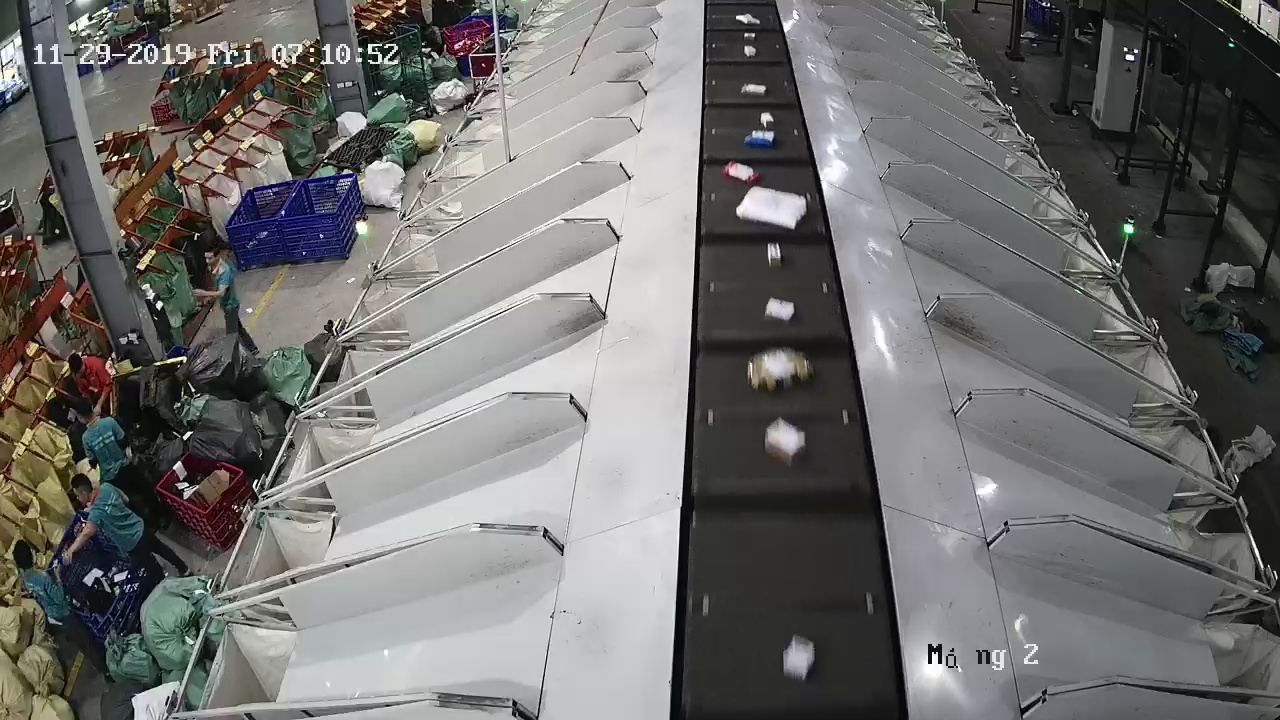parcel: (746, 347, 815, 394), (735, 186, 807, 230), (764, 418, 807, 470), (782, 635, 815, 682), (723, 160, 763, 185), (764, 297, 795, 321), (767, 242, 782, 269)
